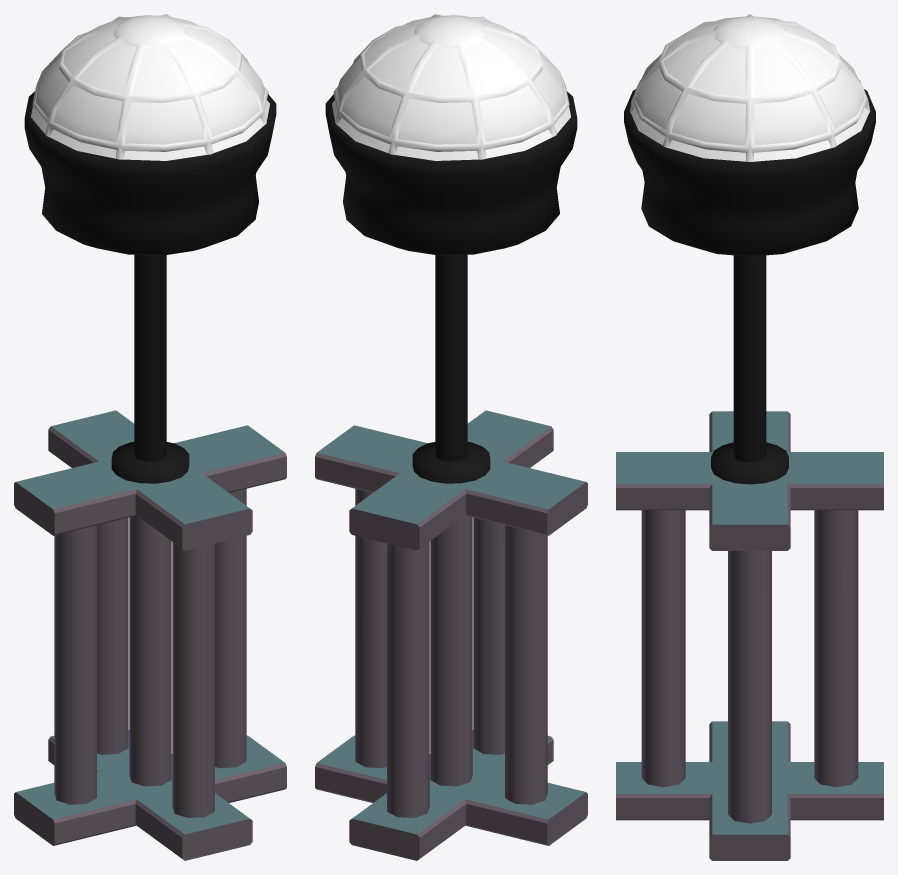
Rendered from GB_144_railing_lamp.glb.
The picture shows the model from 3 angles, left to right: view 1: azimuth 30°, elevation 25°; view 2: azimuth 150°, elevation 25°; view 3: azimuth 270°, elevation 25°; orthographic projection.
Visible parts, largest first — view 1: RailingLamp_Railing, RailingLamp_Lamp; view 2: RailingLamp_Railing, RailingLamp_Lamp; view 3: RailingLamp_Railing, RailingLamp_Lamp.
Boxes of the visible parts, x1,y1,x2,y2 form: RailingLamp_Railing: (14,410,286,860); RailingLamp_Lamp: (24,14,276,483); RailingLamp_Railing: (315,410,587,860); RailingLamp_Lamp: (325,14,577,483); RailingLamp_Railing: (616,411,883,860); RailingLamp_Lamp: (624,14,875,484).
Size of the model in its own units: 0.752 by 2.42 by 0.752.
